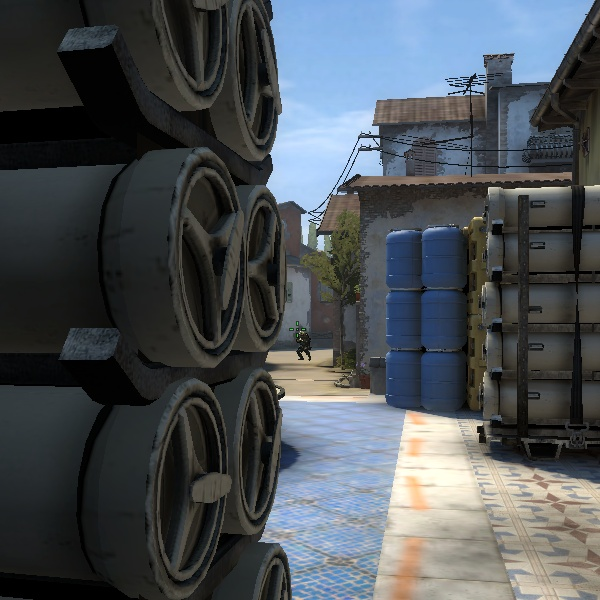t_body: (293, 325, 313, 361)
